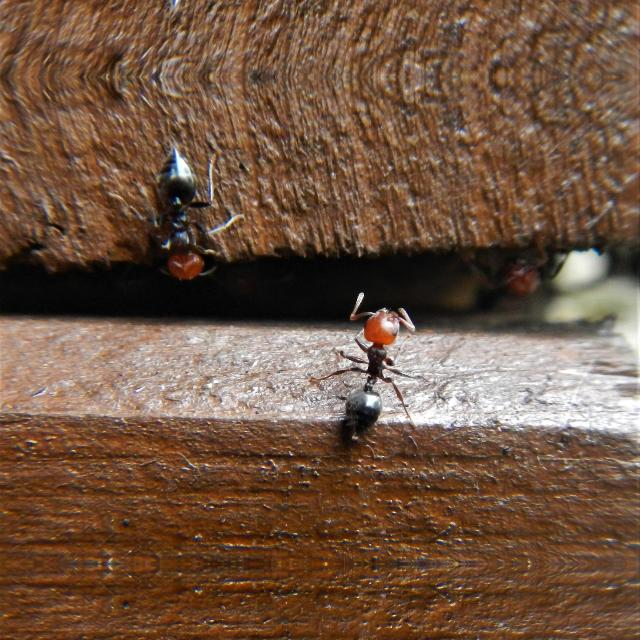Crematogaster: (326, 286, 412, 442), (147, 145, 221, 289), (456, 236, 560, 304)
